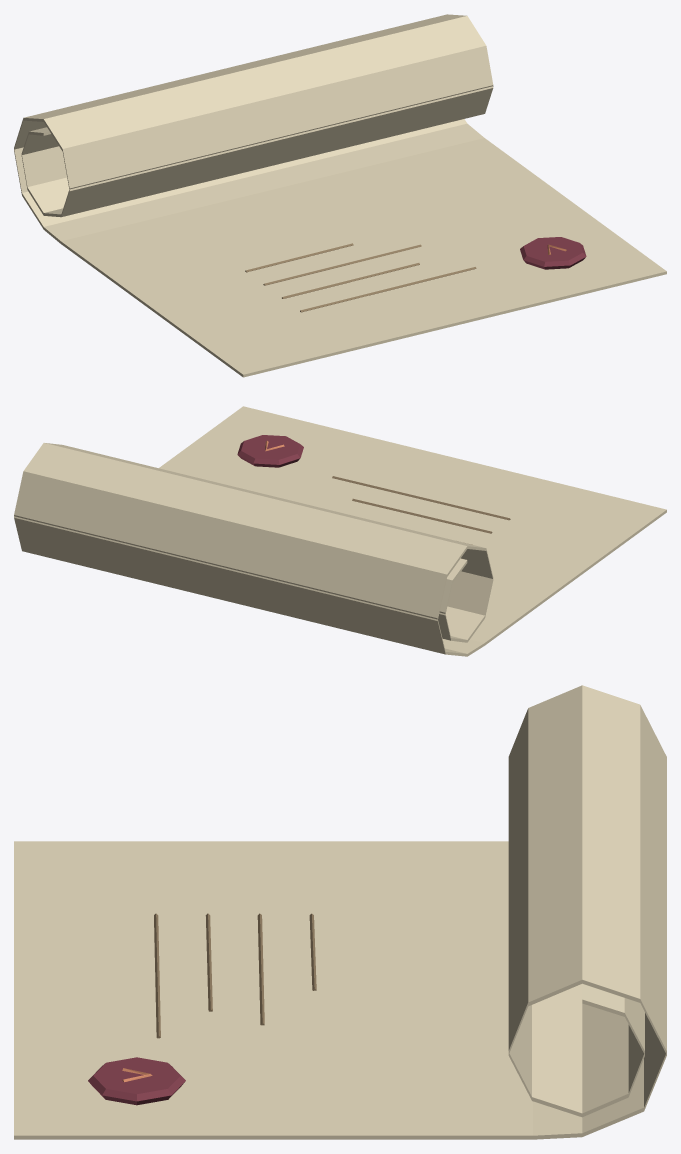
Rendered from ancient_scroll.glb.
3 renders of one model, top to bottom at view 1: azimuth 30°, elevation 25°; view 2: azimuth 150°, elevation 25°; view 3: azimuth 270°, elevation 25°, orthographic. The views are drawn at different scales.
Visible parts, largest first — view 1: SM_Magic_Scroll; view 2: SM_Magic_Scroll; view 3: SM_Magic_Scroll.
Boxes of the visible parts, x1,y1,x2,y2 form: SM_Magic_Scroll: (14, 14, 666, 377); SM_Magic_Scroll: (14, 406, 666, 656); SM_Magic_Scroll: (14, 685, 666, 1139).
Bounding box in the file's own units: 0.255 × 0.0646 × 0.239.
1 material, 1 textured.
